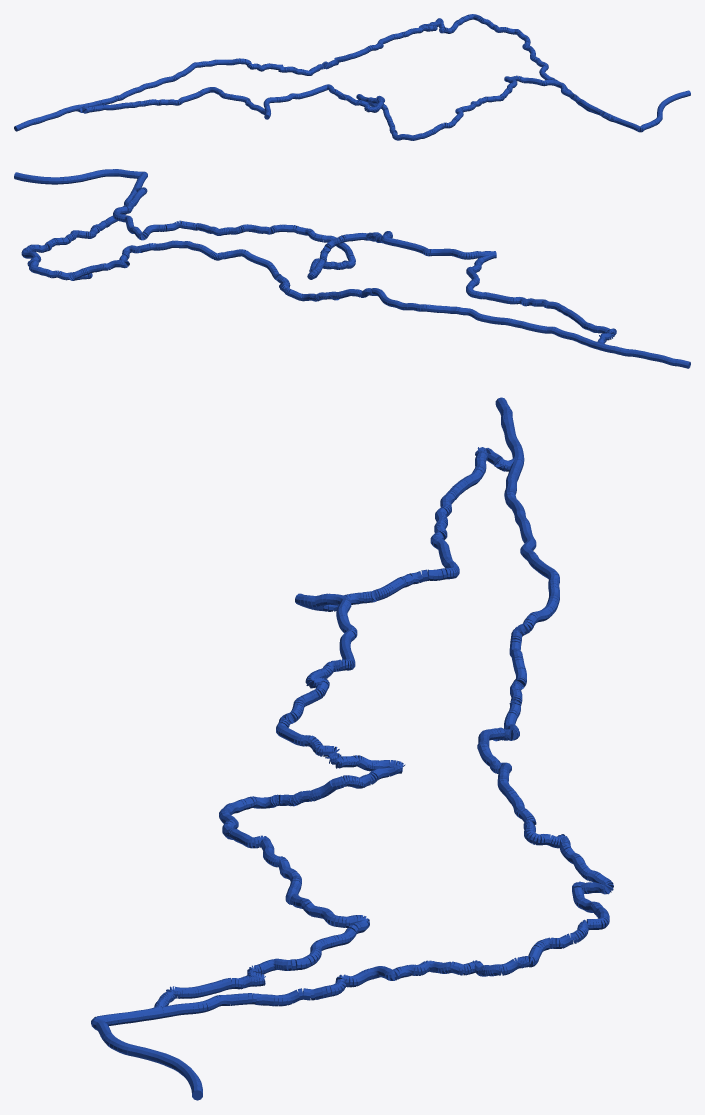
File: model_gpx_insert_traces.glb
The picture shows the model from 3 angles, top to bottom: view 1: azimuth 30°, elevation 25°; view 2: azimuth 150°, elevation 25°; view 3: azimuth 270°, elevation 25°; orthographic projection. The views are drawn at different scales.
Size of the model in its own units: 109 by 11.67 by 41.18.
